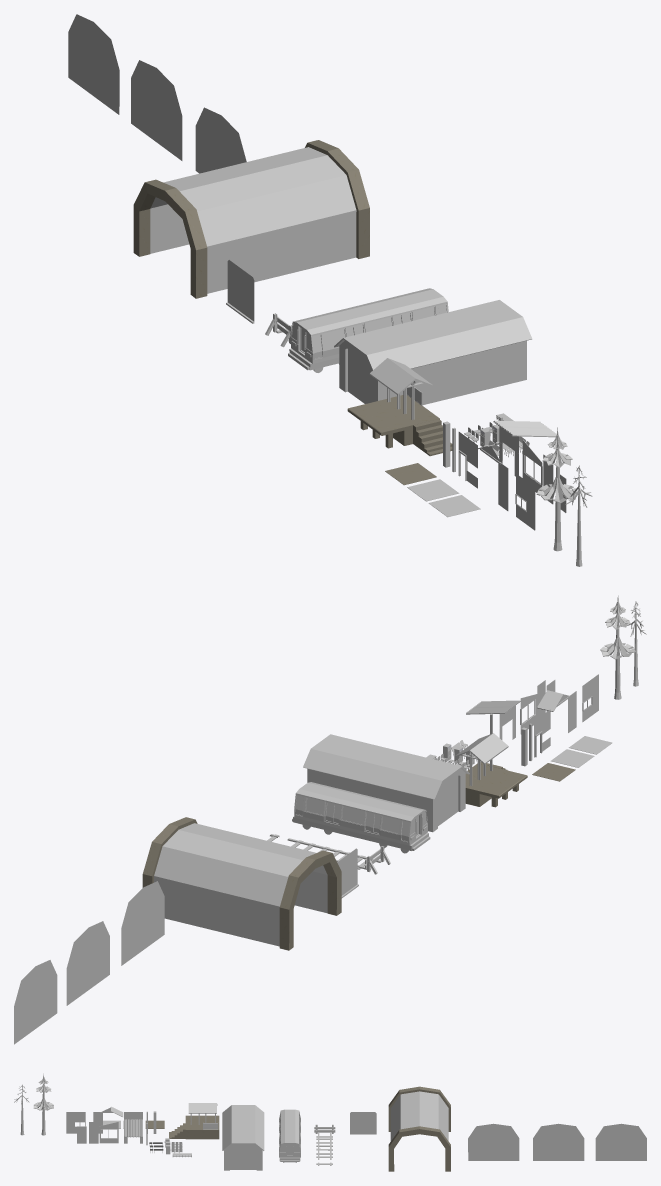
Rendered from trainStop.fbx.
The picture shows the model from 3 angles, top to bottom: view 1: azimuth 30°, elevation 25°; view 2: azimuth 150°, elevation 25°; view 3: azimuth 270°, elevation 25°; orthographic projection. The views are drawn at different scales.
Visible parts, largest first — view 1: train tunnel, tain shead, abandond train, train tunnel end .002, train tunnel end .001, cement platform.01, train tunnel end, train shellter, sample pine tree.01, tain shead door, cement platform.04, Meta lPlates Rusted roof (+1 smaller); view 2: train tunnel, tain shead, abandond train, train tunnel end .001, train tunnel end, train tunnel end .002, cement platform.01, sample pine tree.01, train shellter, tain shead door; view 3: train tunnel, tain shead, train tunnel end, train tunnel end .001, train tunnel end .002, abandond train, cement platform.01, tain shead door, sample pine tree.01, train shellter, Meta lPlates Rusted roof, old Wood Plank thin window wall (+7 smaller).
Boxes of the visible parts, x1,y1,x2,y2 form: train tunnel: [133, 140, 369, 298]; tain shead: [334, 300, 532, 404]; abandond train: [288, 288, 448, 372]; train tunnel end .002: [68, 14, 119, 114]; train tunnel end .001: [131, 60, 182, 160]; cement platform.01: [347, 395, 439, 448]; train tunnel end: [195, 107, 246, 173]; train shellter: [369, 358, 433, 420]; sample pine tree.01: [536, 427, 578, 551]; tain shead door: [226, 260, 254, 323]; cement platform.04: [413, 419, 452, 456]; Meta lPlates Rusted roof: [493, 420, 556, 437]; train tunnel: [142, 817, 341, 950]; tain shead: [303, 734, 469, 832]; abandond train: [292, 782, 430, 853]; train tunnel end .001: [66, 921, 109, 1005]; train tunnel end: [121, 881, 164, 965]; train tunnel end .002: [14, 960, 57, 1044]; cement platform.01: [465, 763, 527, 807]; sample pine tree.01: [600, 595, 635, 699]; train shellter: [455, 733, 508, 786]; tain shead door: [337, 848, 358, 898]; train tunnel: [388, 1086, 450, 1171]; tain shead: [222, 1105, 264, 1170]; train tunnel end: [468, 1123, 519, 1160]; train tunnel end .001: [533, 1123, 584, 1160]; train tunnel end .002: [595, 1123, 646, 1160]; abandond train: [279, 1109, 300, 1162]; cement platform.01: [185, 1115, 219, 1139]; tain shead door: [350, 1112, 376, 1134]; sample pine tree.01: [33, 1073, 53, 1135]; train shellter: [188, 1103, 217, 1124]; Meta lPlates Rusted roof: [124, 1119, 142, 1137]; old Wood Plank thin window wall: [66, 1112, 85, 1133].
Bounding box in the file's own units: 2521 × 1445 × 13227.
